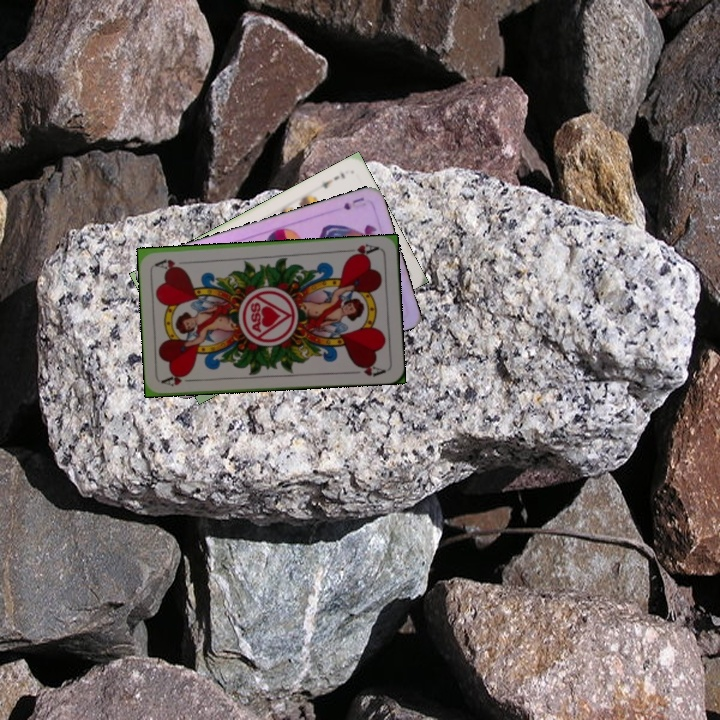E7: (318, 168, 348, 191)
HA: (341, 239, 382, 260), (159, 370, 200, 389)
SU: (339, 193, 367, 213)
